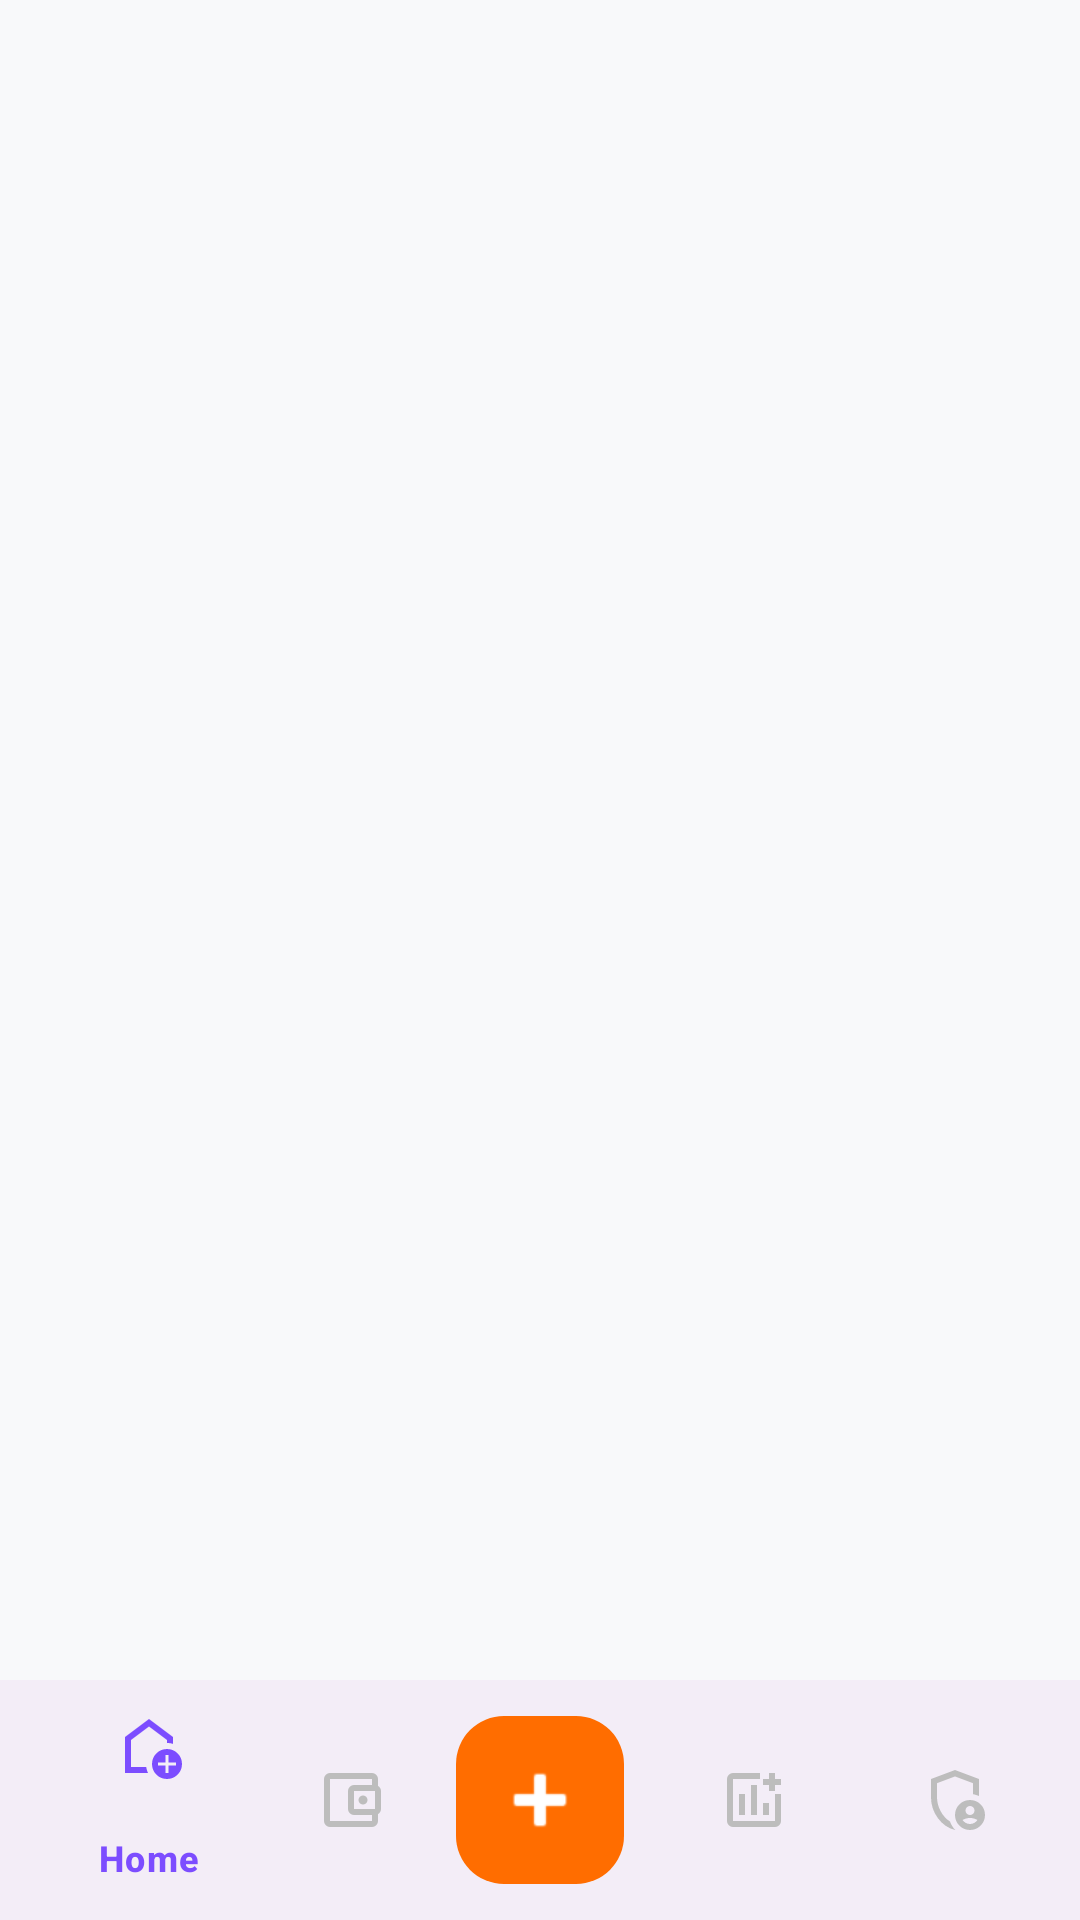

Icon bounding boxes for this 1080 × 1920 phone screenshot, format bbox=[x1, y1, x2, y2]:
add: bbox=[456, 1752, 624, 1884]
